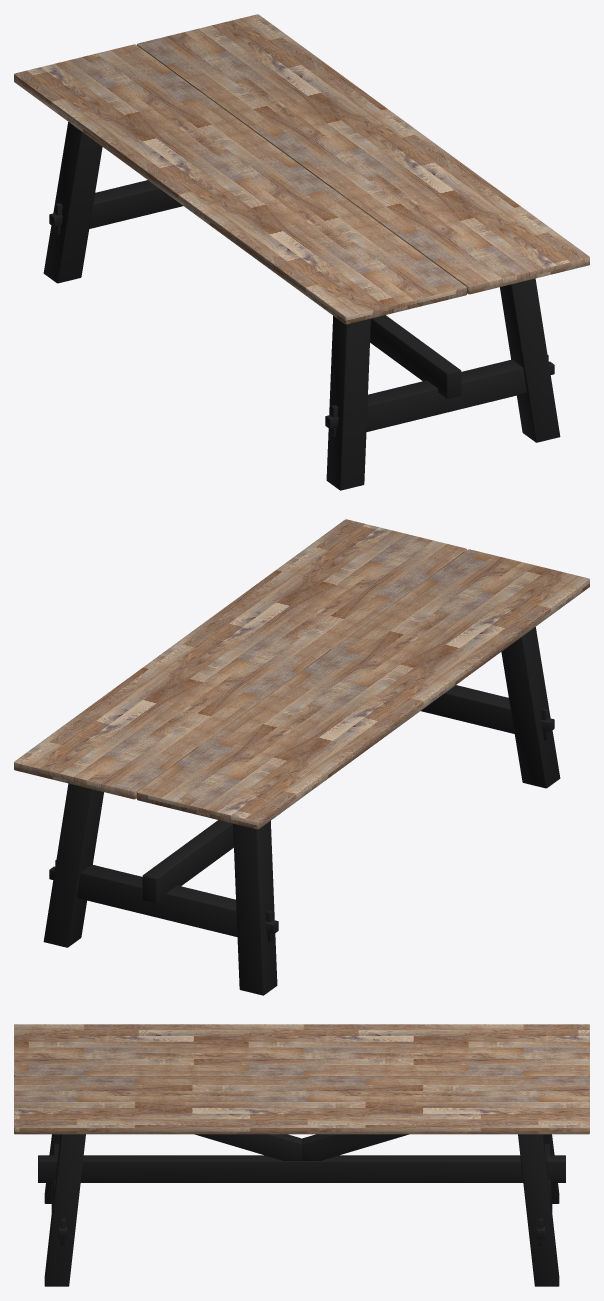
Rendered from dining-table-industrial.glb.
The picture shows the model from 3 angles, top to bottom: view 1: azimuth 30°, elevation 25°; view 2: azimuth 150°, elevation 25°; view 3: azimuth 270°, elevation 25°; orthographic projection. The views are drawn at different scales.
Visible parts, largest first — view 1: Object_3, Object_4, Object_2; view 2: Object_3, Object_4, Object_2; view 3: Object_3, Object_4.
Boxes of the visible parts, x1,y1,x2,y2 form: Object_3: [14, 14, 589, 324]; Object_4: [43, 122, 560, 490]; Object_2: [346, 257, 589, 324]; Object_3: [14, 519, 589, 829]; Object_4: [43, 627, 560, 995]; Object_2: [14, 762, 257, 829]; Object_3: [14, 1024, 589, 1134]; Object_4: [38, 1134, 565, 1286].
Size of the model in its own units: 1.01 by 0.75 by 2.38.
3 materials, 2 textured.
